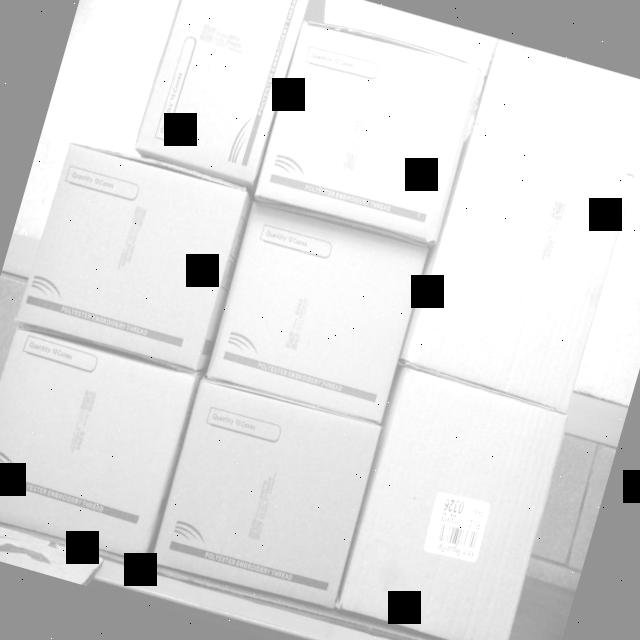box: (408, 128, 640, 410), (335, 368, 570, 640), (148, 374, 391, 626), (15, 136, 252, 368), (255, 23, 481, 248), (208, 201, 432, 423), (0, 333, 194, 572), (134, 0, 309, 187)
